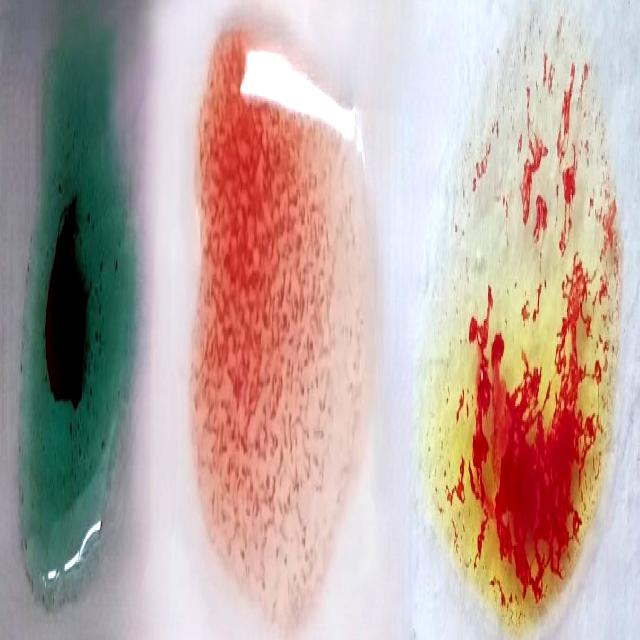A: (19, 47, 122, 592)
B: (416, 32, 614, 638)
D: (190, 49, 355, 597)
